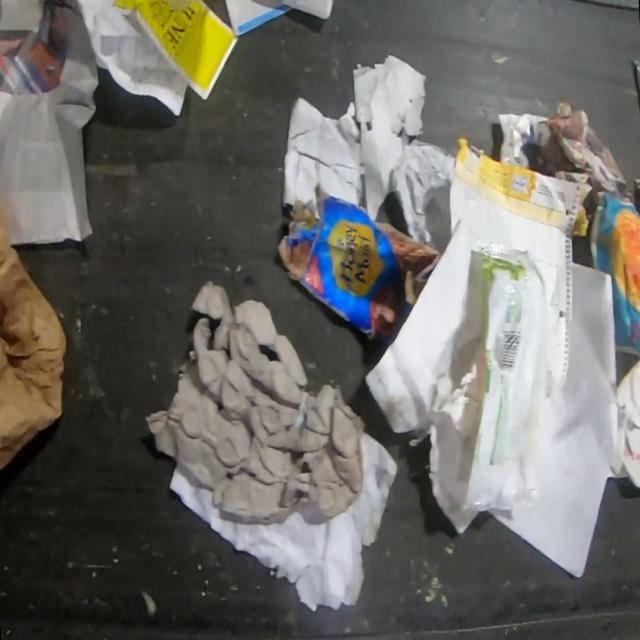cardboard: (279, 52, 457, 252), (276, 193, 444, 350)
soft_plastic: (460, 240, 551, 514)
